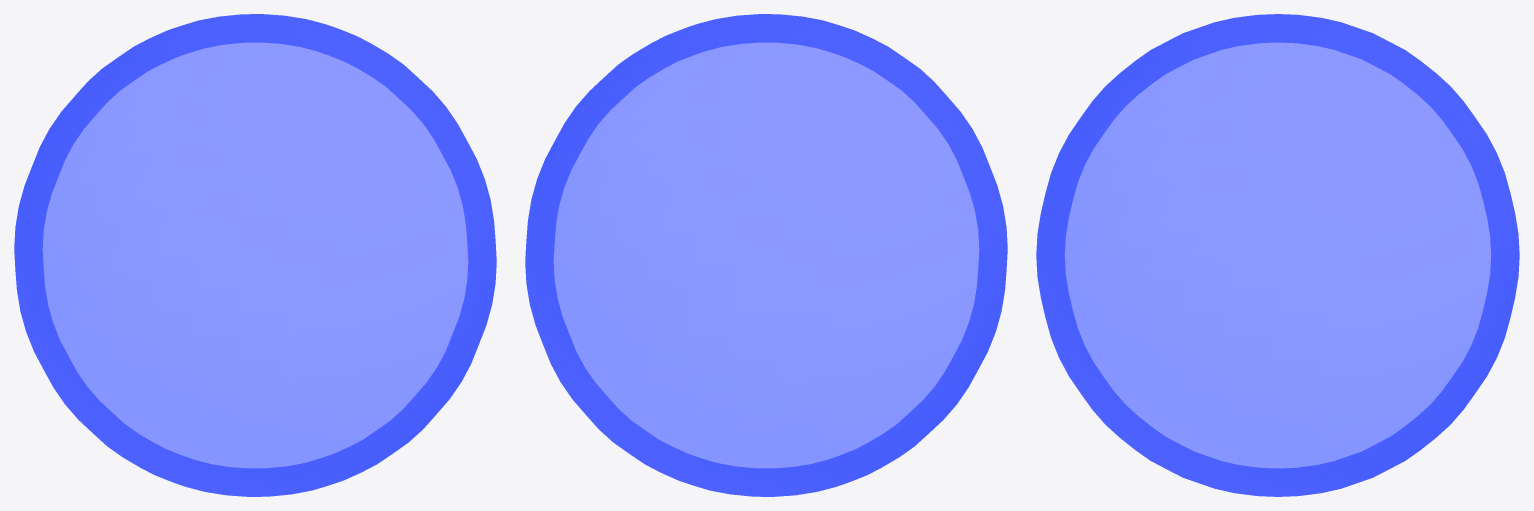
Rendered from ElasticJadeBullet.fbx.
3 renders of one model, left to right at view 1: azimuth 30°, elevation 25°; view 2: azimuth 150°, elevation 25°; view 3: azimuth 270°, elevation 25°, orthographic.
Visible parts, largest first — view 1: Outter, Inner; view 2: Outter, Inner; view 3: Outter, Inner.
Boxes of the visible parts, x1,y1,x2,y2 form: Outter: [14, 14, 496, 496]; Inner: [42, 42, 468, 468]; Outter: [525, 14, 1007, 496]; Inner: [553, 42, 979, 468]; Outter: [1036, 14, 1519, 496]; Inner: [1064, 42, 1491, 468].
Size of the model in its own units: 113 by 113 by 113.
